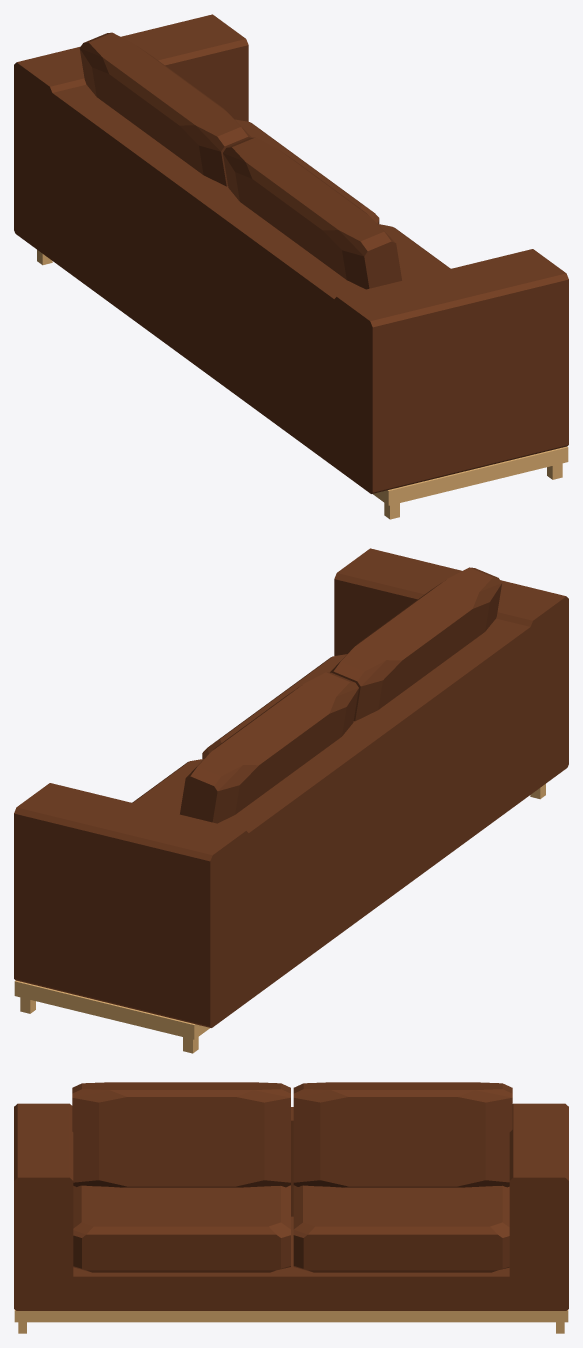
Rendered from sofa.fbx.
The picture shows the model from 3 angles, top to bottom: view 1: azimuth 30°, elevation 25°; view 2: azimuth 150°, elevation 25°; view 3: azimuth 270°, elevation 25°; orthographic projection. The views are drawn at different scales.
Parts seen in each view (by area): view 1: Cube.126; view 2: Cube.126; view 3: Cube.126.
Part boxes in pixels (box(x1,y1,x2,y2)): Cube.126: box(14, 14, 568, 519); Cube.126: box(14, 548, 568, 1053); Cube.126: box(14, 1082, 568, 1333).
Bounding box in the file's own units: 114 × 139 × 361.
